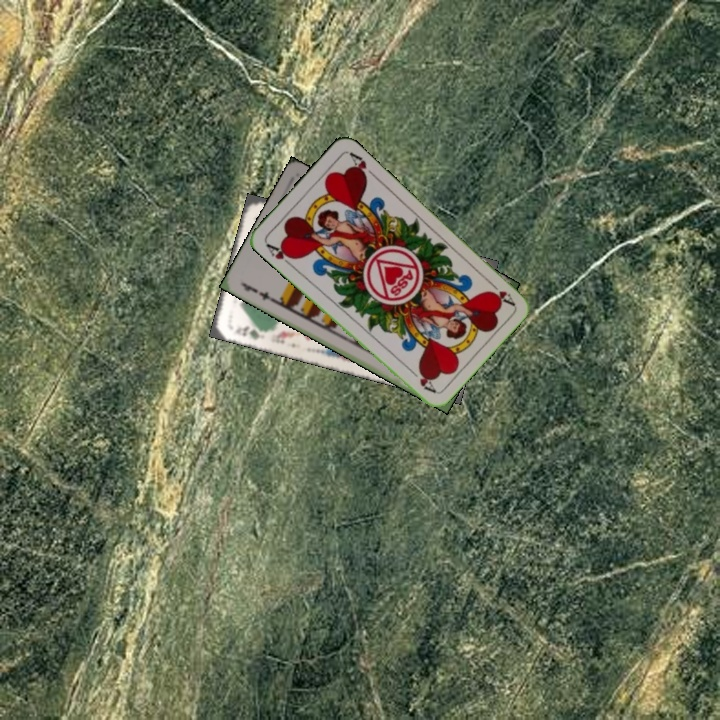E7: (238, 279, 276, 304)
GK: (231, 322, 268, 342)
HA: (483, 276, 517, 308), (262, 239, 298, 269)
